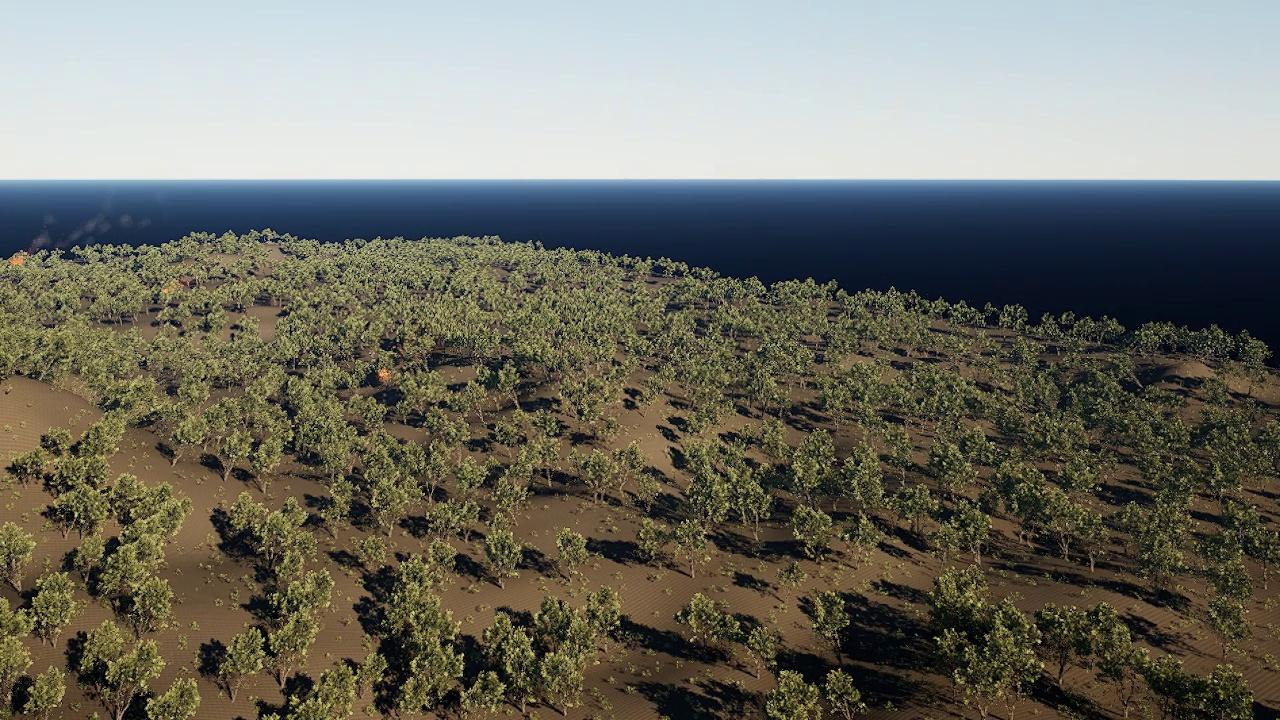fire: (5, 252, 27, 265), (378, 367, 392, 382), (163, 287, 170, 293)
smoke: (24, 190, 153, 251)
